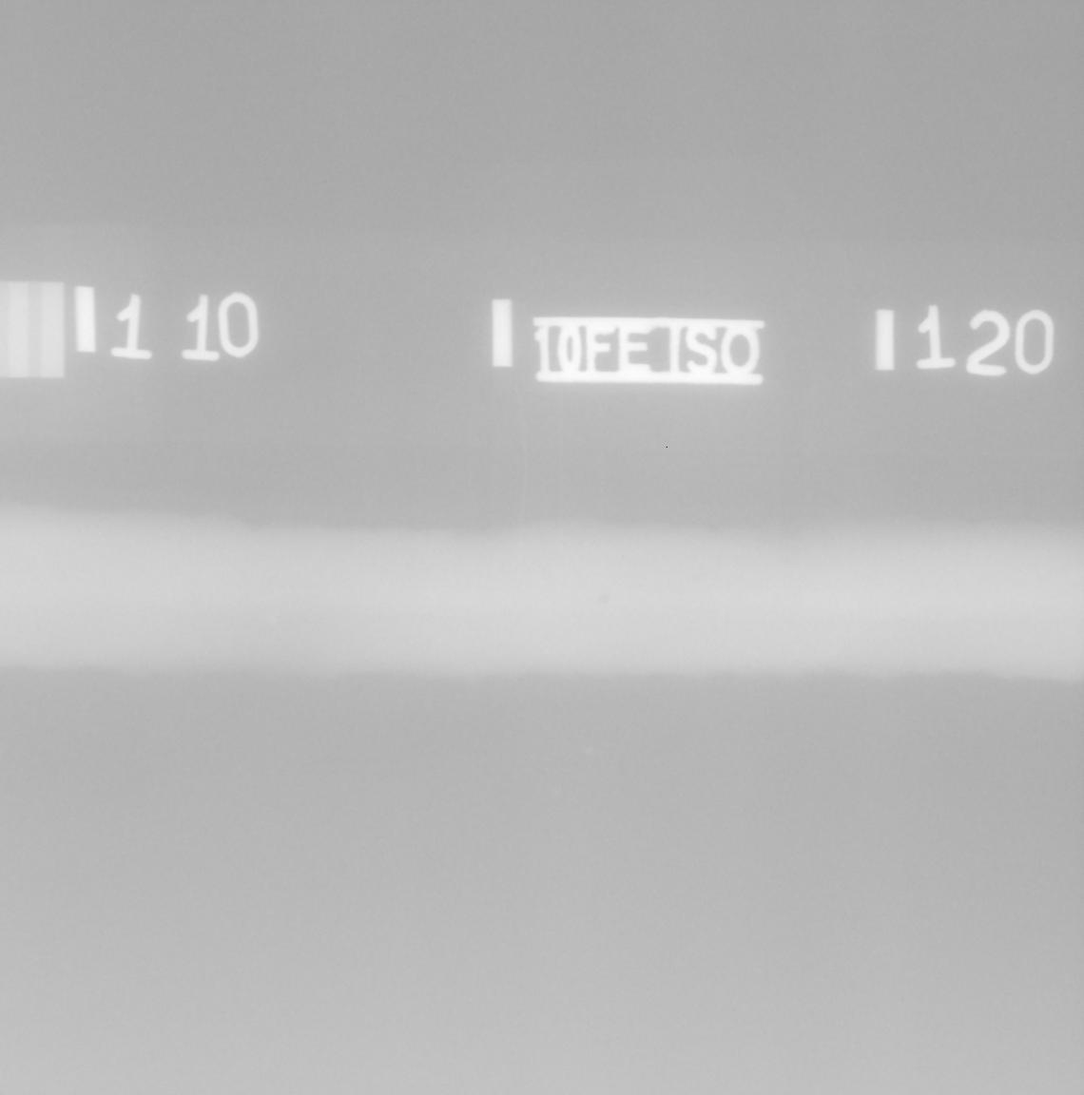Pore/Porosity: (597, 592, 611, 604)
